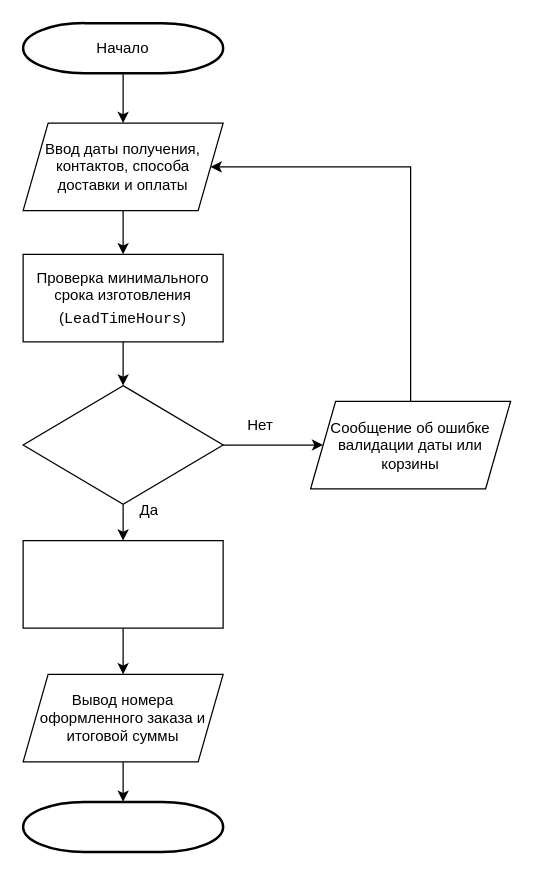
The diagram is 533 pixels wide and 874 high, and some of its shapes have lost their labels. The shapes that lost their labels are listed below. From the top down, each one's centre as x and y in pixels, then its label:
At pixel 122 444: "Дата получения корректна и корзина не пуста?".
At pixel 122 583: "Запись в Orders, OrderItems, OrderStatusHistory и очистка CartItems".
At pixel 122 826: "Конец".
